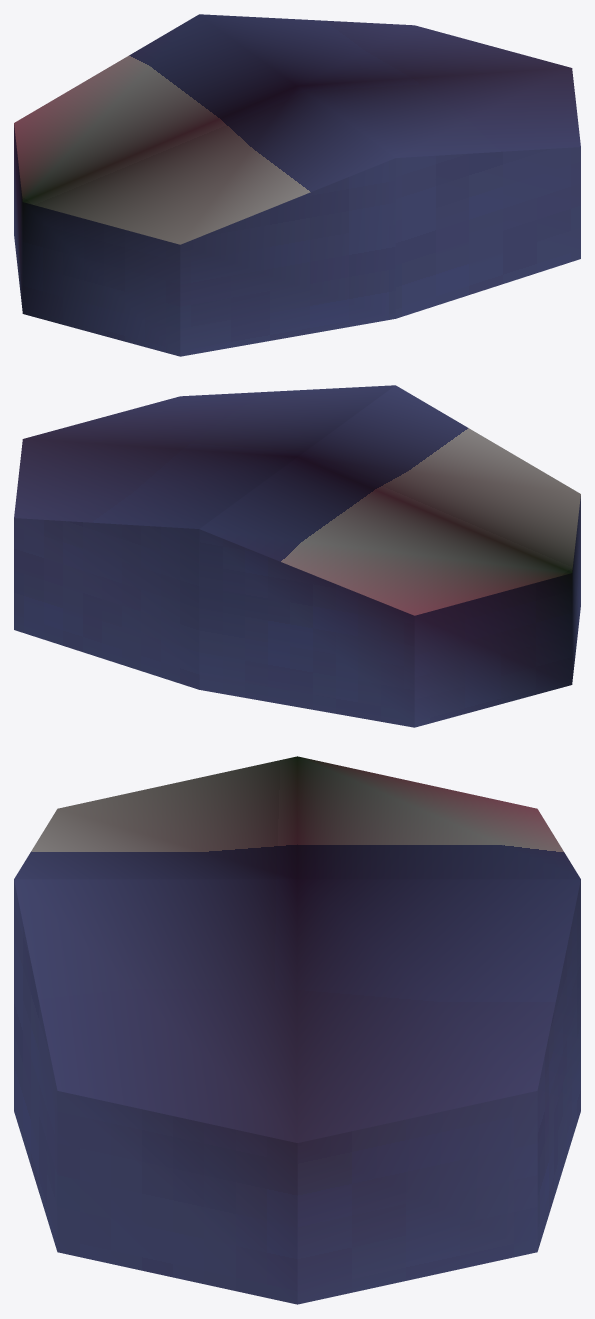
Rendered from mouse.glb.
3 views of the same model, one above another, from view 1: azimuth 30°, elevation 25°; view 2: azimuth 150°, elevation 25°; view 3: azimuth 270°, elevation 25° (orthographic). The views are drawn at different scales.
Parts seen in each view (by area): view 1: mouse; view 2: mouse; view 3: mouse.
Boxes of the visible parts, x1,y1,x2,y2 form: mouse: [14, 14, 580, 356]; mouse: [14, 385, 580, 727]; mouse: [14, 756, 580, 1304].
Bounding box in the file's own units: 0.2859 × 0.0799 × 0.1771.
Materials: 1 (1 with a texture image).
